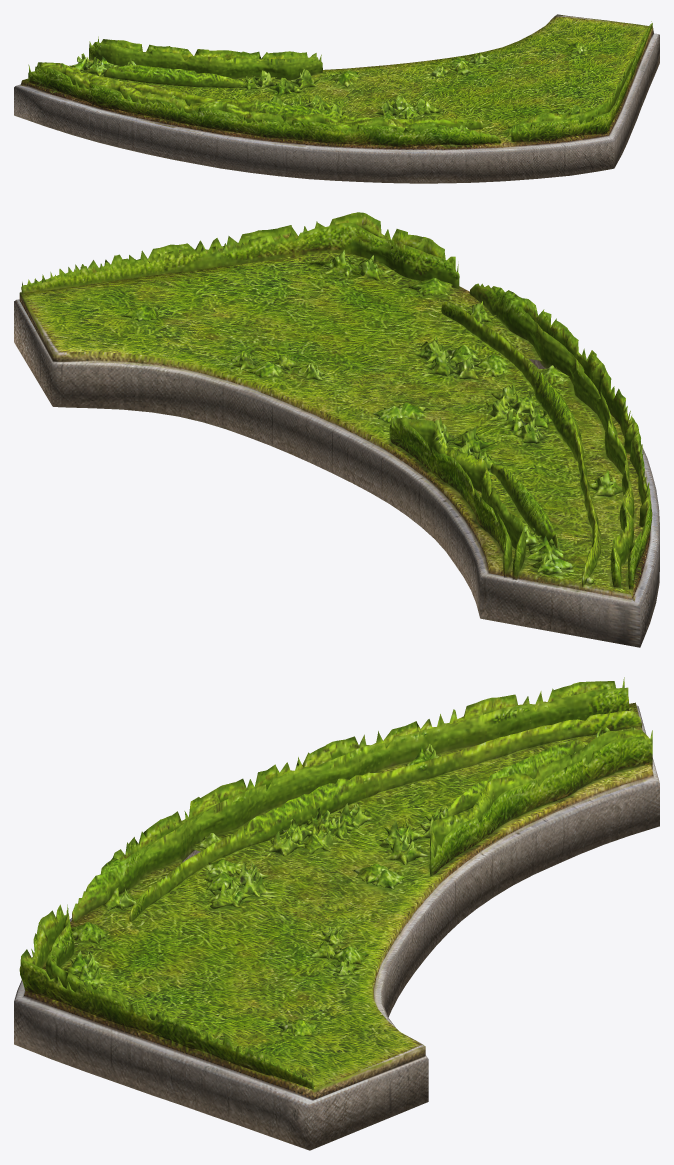
File: grass_3.glb
3 views of the same model, one above another, from view 1: azimuth 30°, elevation 25°; view 2: azimuth 150°, elevation 25°; view 3: azimuth 270°, elevation 25° (orthographic). The views are drawn at different scales.
Visible parts, largest first — view 1: tripo_node_d0c8da99-ea8b-4c45-8d3f-113d0a19af27; view 2: tripo_node_d0c8da99-ea8b-4c45-8d3f-113d0a19af27; view 3: tripo_node_d0c8da99-ea8b-4c45-8d3f-113d0a19af27.
Boxes of the visible parts, x1=… form: tripo_node_d0c8da99-ea8b-4c45-8d3f-113d0a19af27: x1=14, y1=14, x2=659, y2=183; tripo_node_d0c8da99-ea8b-4c45-8d3f-113d0a19af27: x1=14, y1=212, x2=659, y2=647; tripo_node_d0c8da99-ea8b-4c45-8d3f-113d0a19af27: x1=14, y1=677, x2=659, y2=1150.
Size of the model in its own units: 0.9995 by 0.0991 by 0.6802.
Materials: 1 (1 with a texture image).
